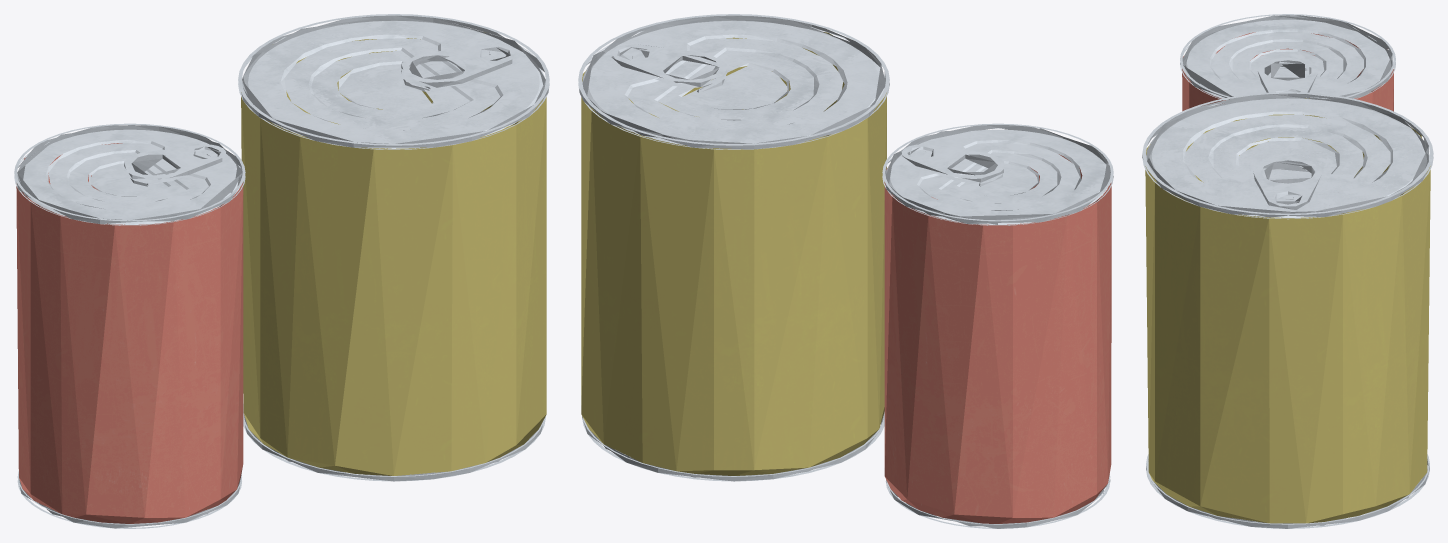
The model's file is Extra Tin can.fbx.
3 views of the same model, side by side, from view 1: azimuth 30°, elevation 25°; view 2: azimuth 150°, elevation 25°; view 3: azimuth 270°, elevation 25° (orthographic). The views are drawn at different scales.
Parts seen in each view (by area): view 1: TIN_CAN_YELLOW, TIN_CAN_PINK; view 2: TIN_CAN_YELLOW, TIN_CAN_PINK; view 3: TIN_CAN_YELLOW, TIN_CAN_PINK.
Boxes of the visible parts, bbox=[...] form: TIN_CAN_YELLOW: bbox=[238, 14, 549, 481]; TIN_CAN_PINK: bbox=[14, 123, 245, 528]; TIN_CAN_YELLOW: bbox=[578, 14, 889, 481]; TIN_CAN_PINK: bbox=[882, 123, 1113, 528]; TIN_CAN_YELLOW: bbox=[1142, 92, 1433, 528]; TIN_CAN_PINK: bbox=[1180, 14, 1395, 111].
Size of the model in its own units: 0.0725 by 0.0471 by 0.0392.
Materials: 2 (2 with a texture image).
